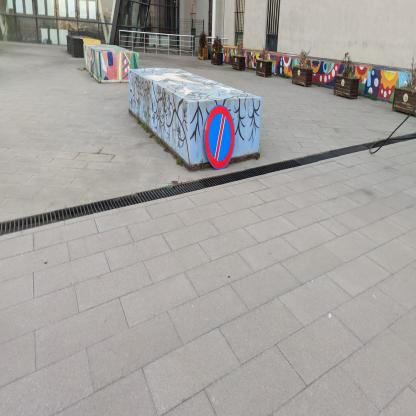No Waiting: (206, 106, 236, 171)
